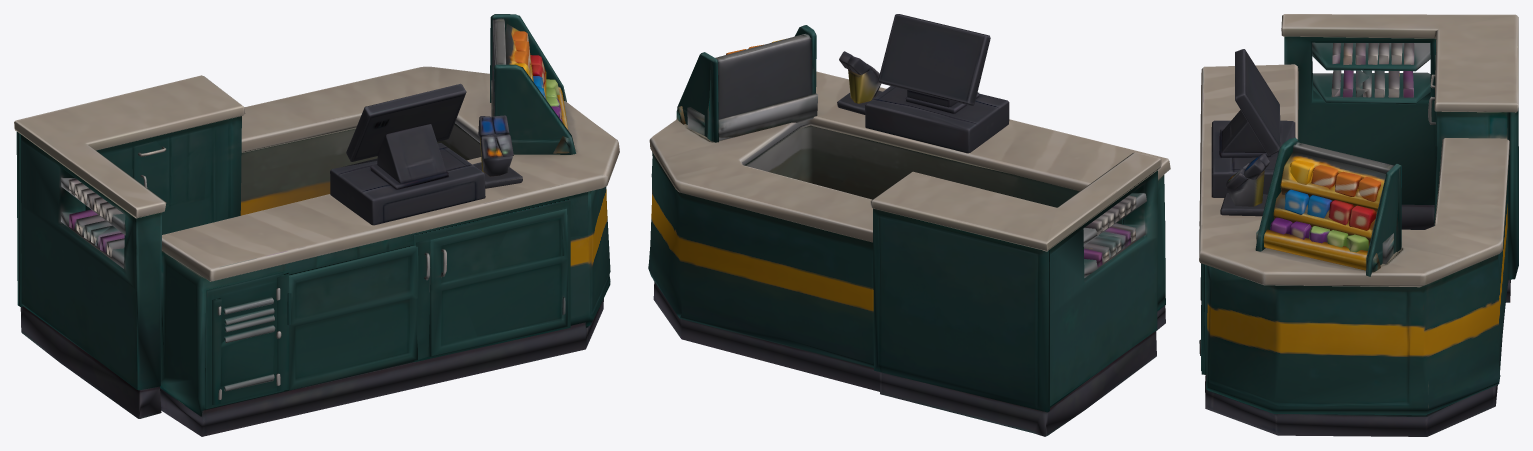
The model's file is checkout-counter.glb.
3 renders of one model, left to right at view 1: azimuth 30°, elevation 25°; view 2: azimuth 150°, elevation 25°; view 3: azimuth 270°, elevation 25°, orthographic. The views are drawn at different scales.
Parts seen in each view (by area): view 1: geometry_0; view 2: geometry_0; view 3: geometry_0.
Part boxes in pixels (<box>): geometry_0: <box>14,14,619,436</box>; geometry_0: <box>648,14,1170,436</box>; geometry_0: <box>1199,14,1518,436</box>.
Bounding box in the file's own units: 1 × 0.5604 × 0.6078.
Materials: 1 (1 with a texture image).
